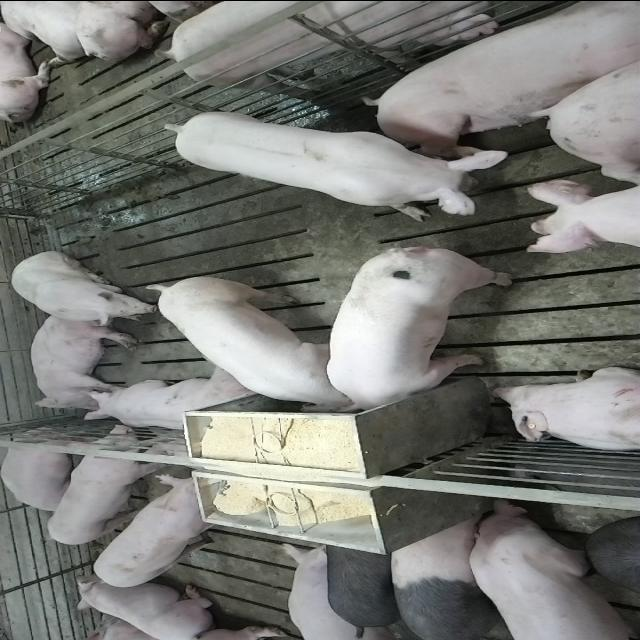Feeding: (324, 250, 516, 420), (142, 273, 356, 409)
Lateral_lying: (366, 0, 640, 143), (28, 310, 138, 410)
Sitting: (7, 250, 158, 324)
Standing: (164, 107, 506, 220), (165, 0, 513, 98), (464, 500, 640, 638), (92, 473, 234, 589), (389, 514, 509, 638), (44, 424, 162, 545), (320, 528, 410, 636), (524, 177, 638, 256)
Sternal_lying: (489, 365, 640, 453), (82, 368, 262, 432), (72, 578, 222, 638), (1, 433, 84, 513)
